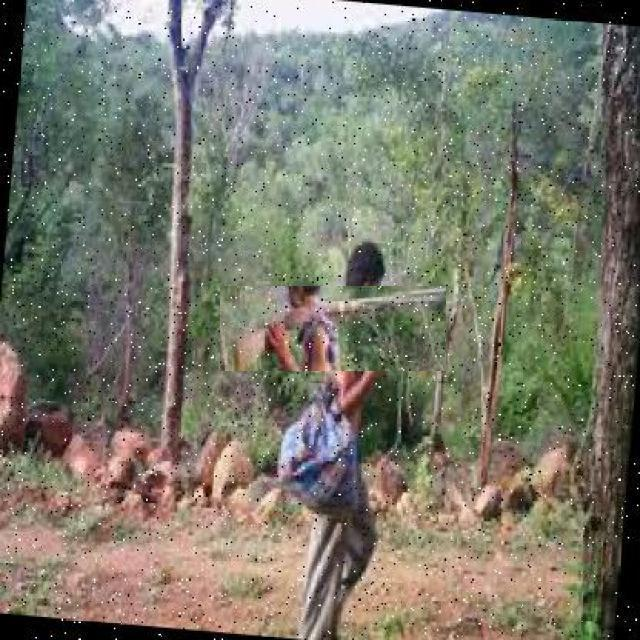poacher: (233, 213, 434, 552)
